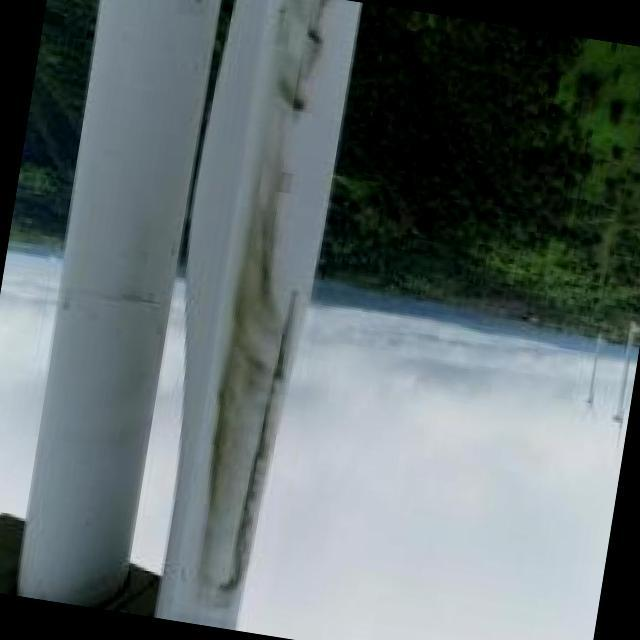Dirt: (195, 0, 332, 632)
Pin Hole: (302, 25, 322, 47), (291, 96, 309, 112)
